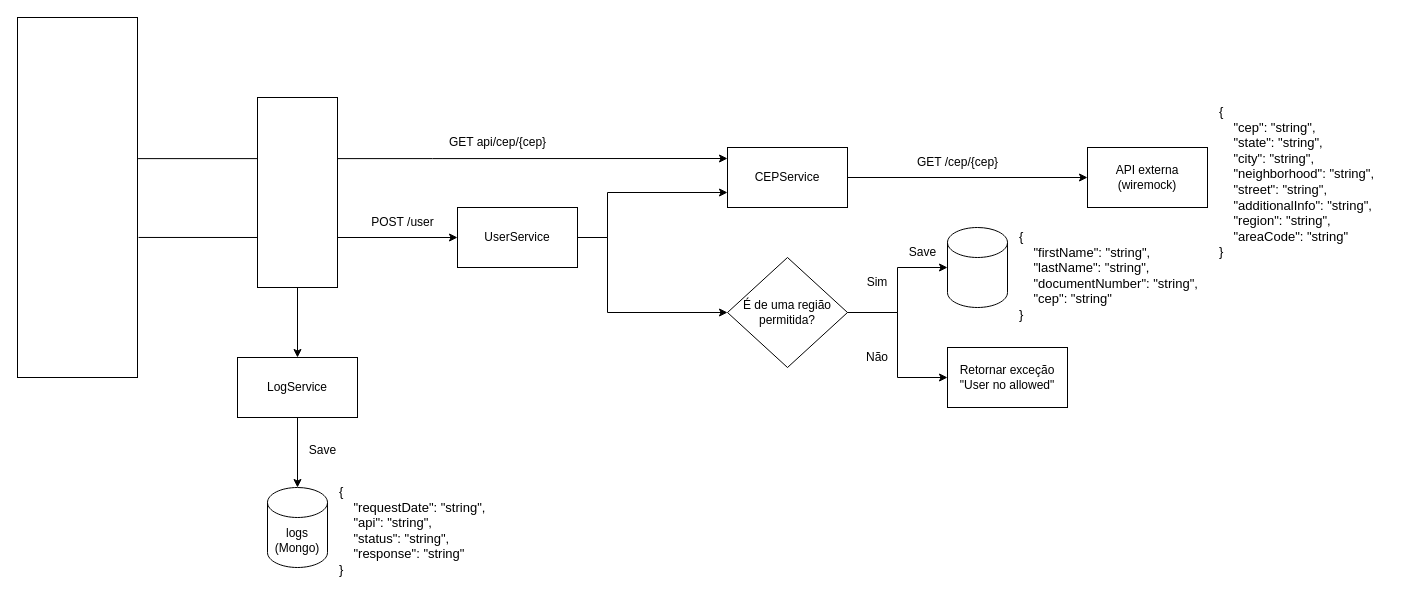
Some shapes in this 1425 by 615 pixel diagram are drawn without their labels. The centre of each missing label's shape, as x and y in pixels:
"Client" goes at [77,197].
"Interceptor" goes at [297,192].
"users (Mongo)" goes at [977,267].
